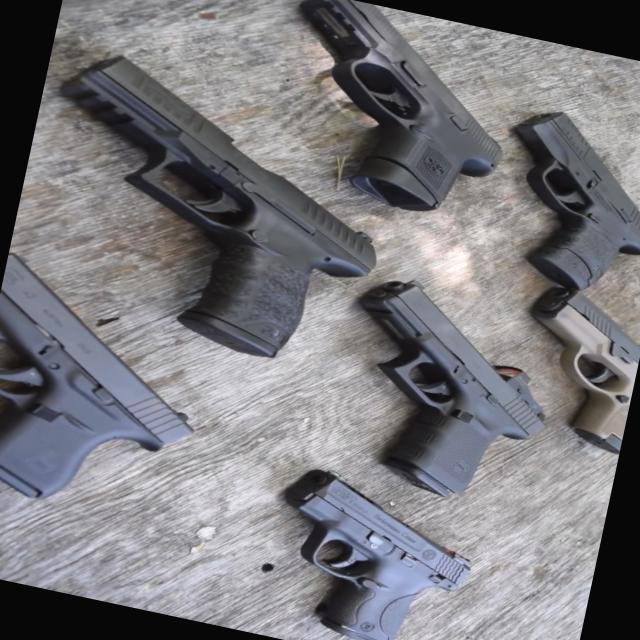handgun: (23, 38, 400, 399), (314, 270, 579, 538), (266, 0, 529, 239), (0, 258, 226, 536), (255, 457, 501, 639), (462, 99, 639, 308), (500, 276, 639, 462)
